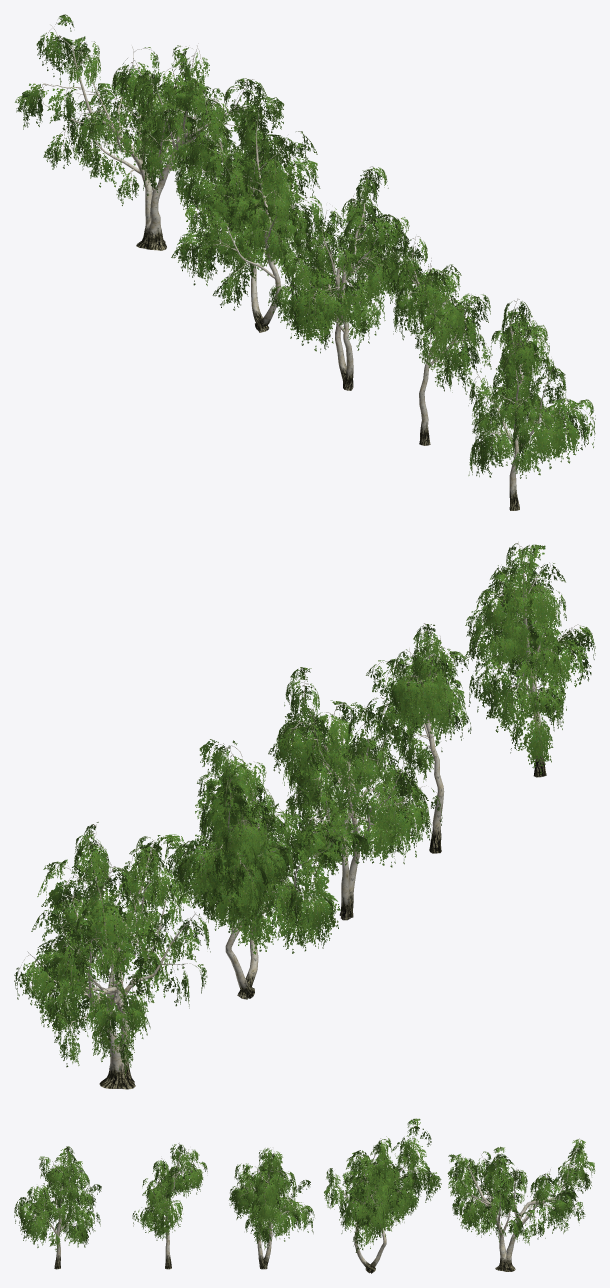
Rendered from birch.glb.
The picture shows the model from 3 angles, top to bottom: view 1: azimuth 30°, elevation 25°; view 2: azimuth 150°, elevation 25°; view 3: azimuth 270°, elevation 25°; orthographic projection. The views are drawn at different scales.
Parts seen in each view (by area): view 1: Birch_4, Birch_5, Birch_3, Birch, Birch_2; view 2: Birch_5, Birch_4, Birch_3, Birch, Birch_2; view 3: Birch_5, Birch_4, Birch, Birch_3, Birch_2.
Boxes of the visible parts, x1,y1,x2,y2 form: Birch_4: (171,80,327,332); Birch_5: (15,14,283,250); Birch_3: (268,166,409,390); Birch: (458,298,595,510); Birch_2: (382,236,492,445); Birch_5: (14,822,210,1089); Birch_4: (164,739,367,999); Birch_3: (268,667,442,920); Birch: (465,541,595,777); Birch_2: (363,623,471,853); Birch_5: (447,1138,595,1271); Birch_4: (324,1118,441,1273); Birch: (14,1146,101,1269); Birch_3: (229,1148,314,1269); Birch_2: (132,1143,207,1269).
Size of what is drawn, in the model's own units: 11.42 by 13.54 by 49.18.
2 materials, 2 textured.
